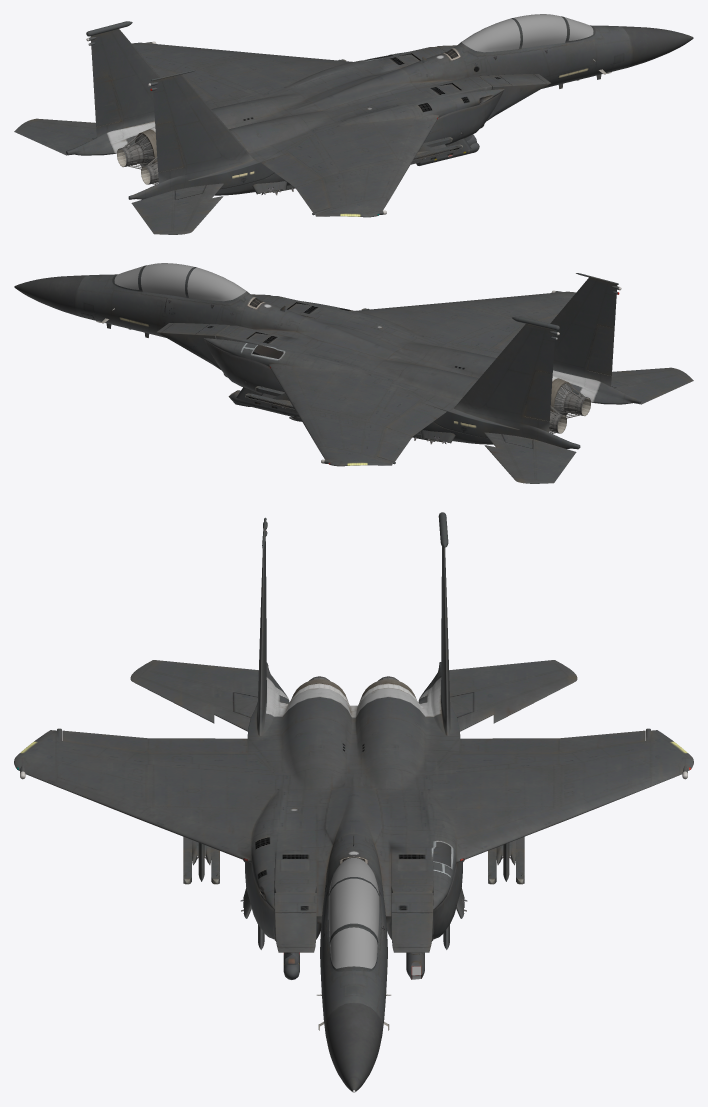
3 views of the same model, one above another, from view 1: azimuth 30°, elevation 25°; view 2: azimuth 150°, elevation 25°; view 3: azimuth 270°, elevation 25° (orthographic). The views are drawn at different scales.
Parts seen in each view (by area): view 1: f15e_SM; view 2: f15e_SM; view 3: f15e_SM.
Boxes of the visible parts, x1,y1,x2,y2 form: f15e_SM: (14, 14, 693, 234); f15e_SM: (14, 263, 693, 483); f15e_SM: (14, 512, 693, 1092).
Size of the model in its own units: 194 by 50.99 by 131.
5 materials, 2 textured.
